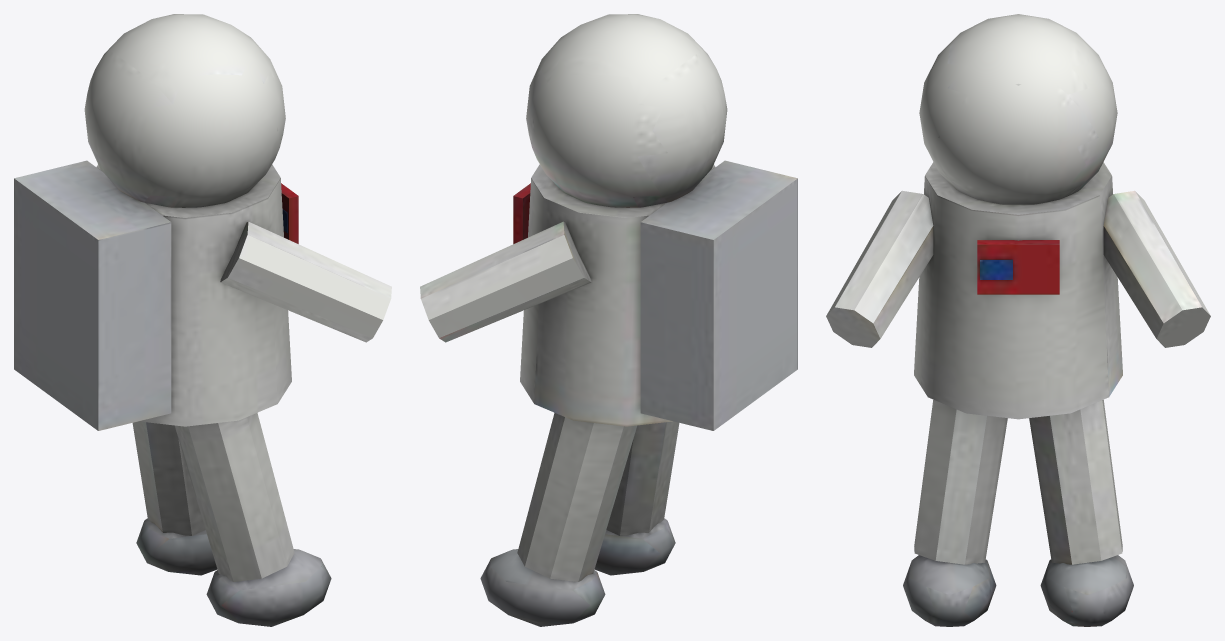
File: astronauta.glb
3 views of the same model, side by side, from view 1: azimuth 30°, elevation 25°; view 2: azimuth 150°, elevation 25°; view 3: azimuth 270°, elevation 25° (orthographic). The views are drawn at different scales.
Visible parts, largest first — view 1: astronauta; view 2: astronauta; view 3: astronauta.
Boxes of the visible parts, x1,y1,x2,y2 form: astronauta: (14,14,391,626); astronauta: (420,14,797,626); astronauta: (826,14,1210,626).
Size of the model in its own units: 1.05 by 2.3 by 1.4.
1 material, 1 textured.
